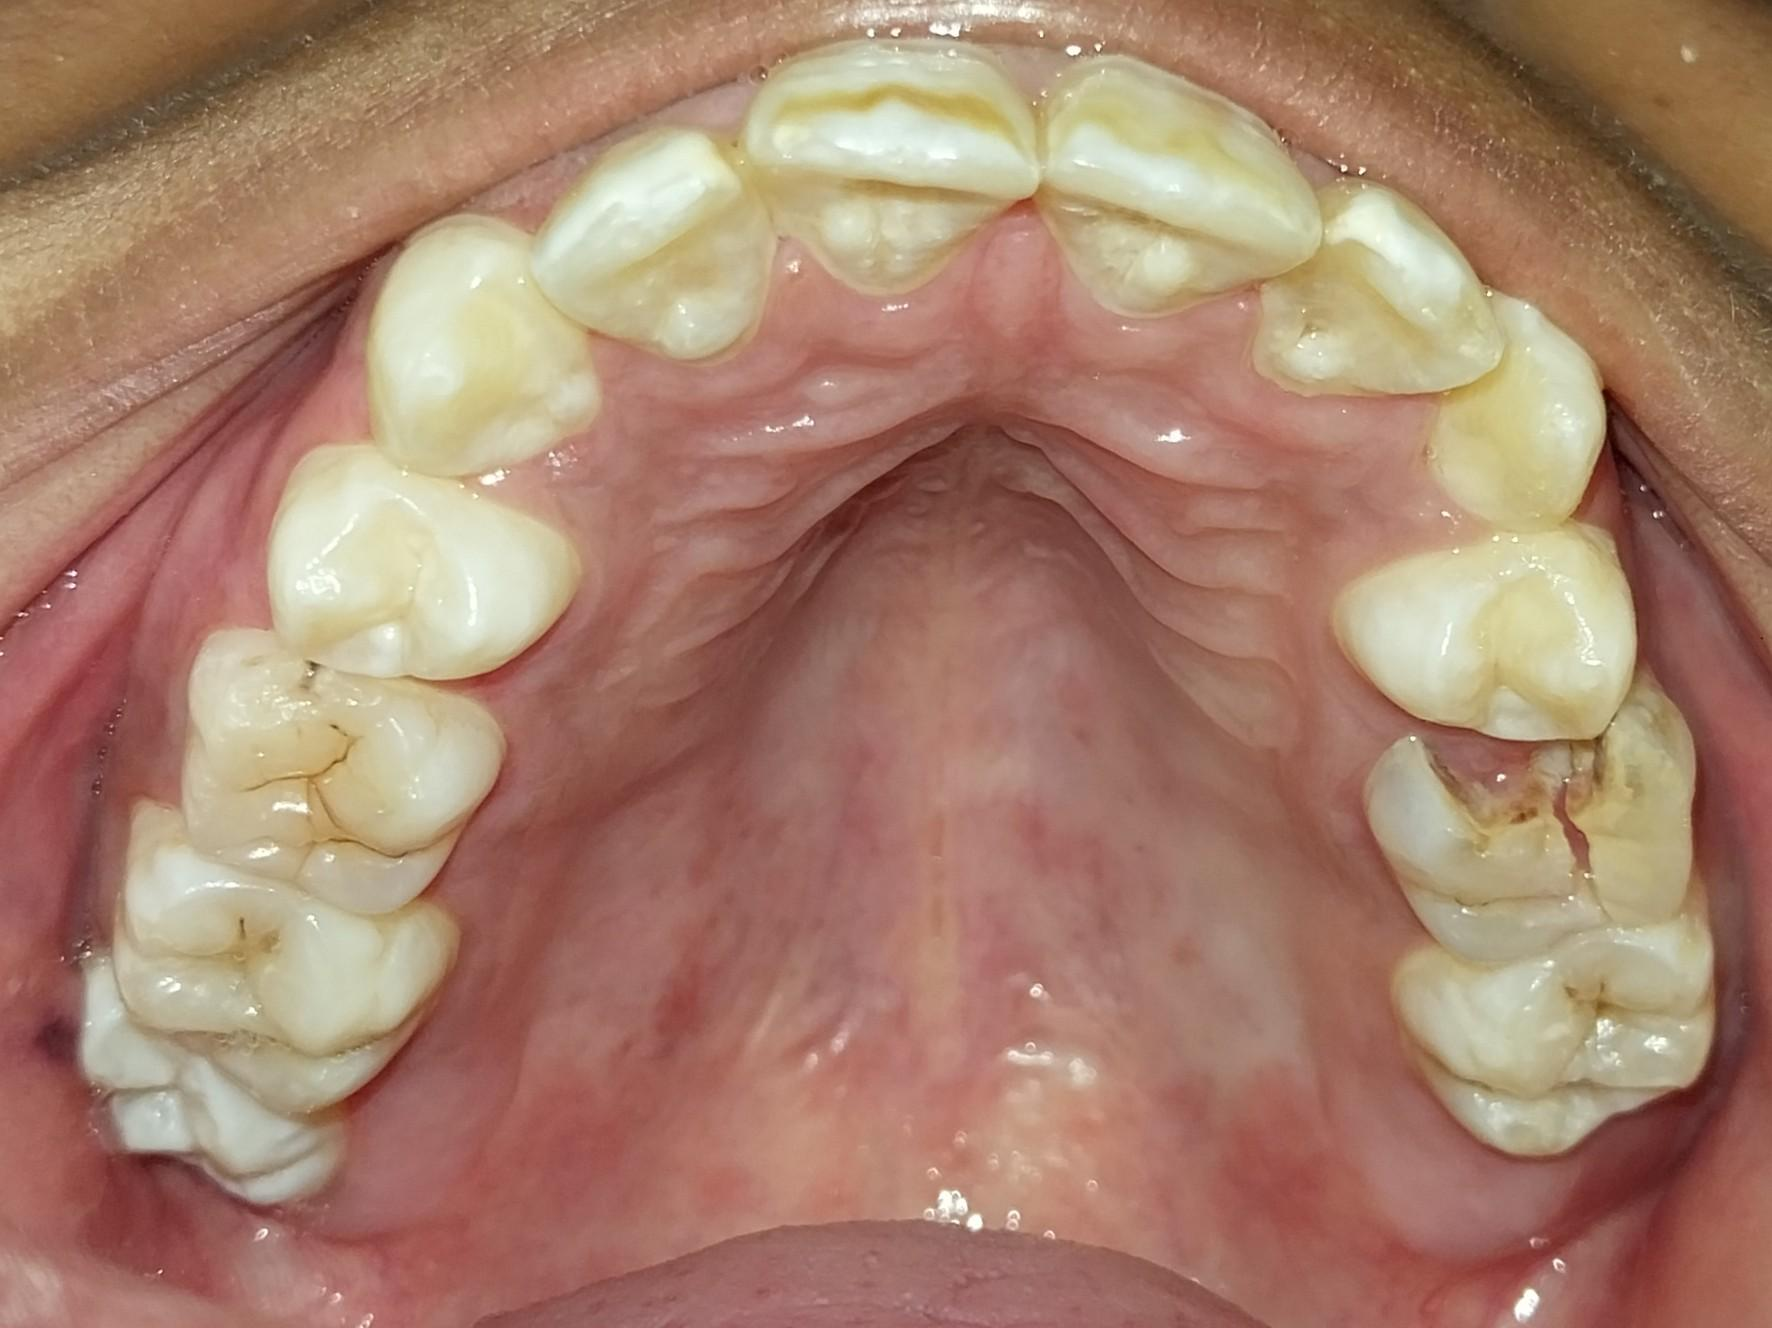d: (178, 620, 501, 921), (1372, 724, 1701, 954)
